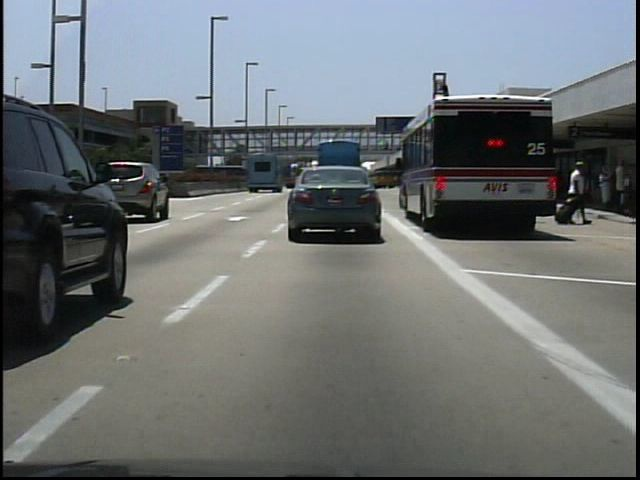person: (563, 156, 592, 229), (382, 137, 395, 157)
